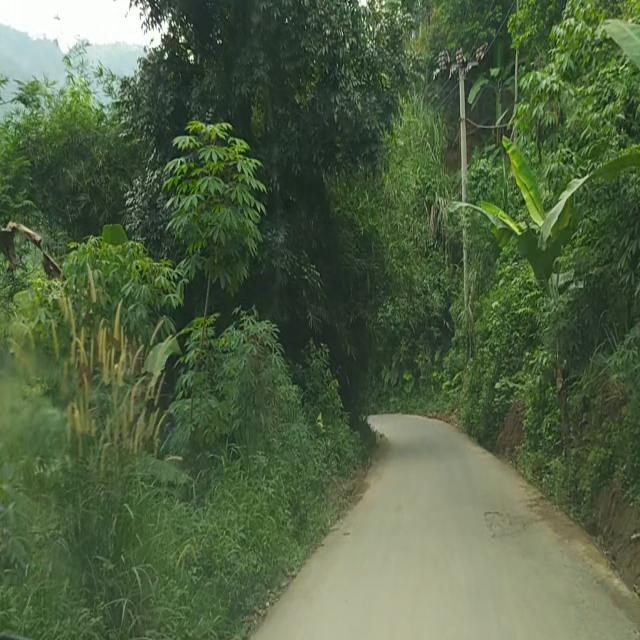Drain Hole: (478, 505, 540, 545)
